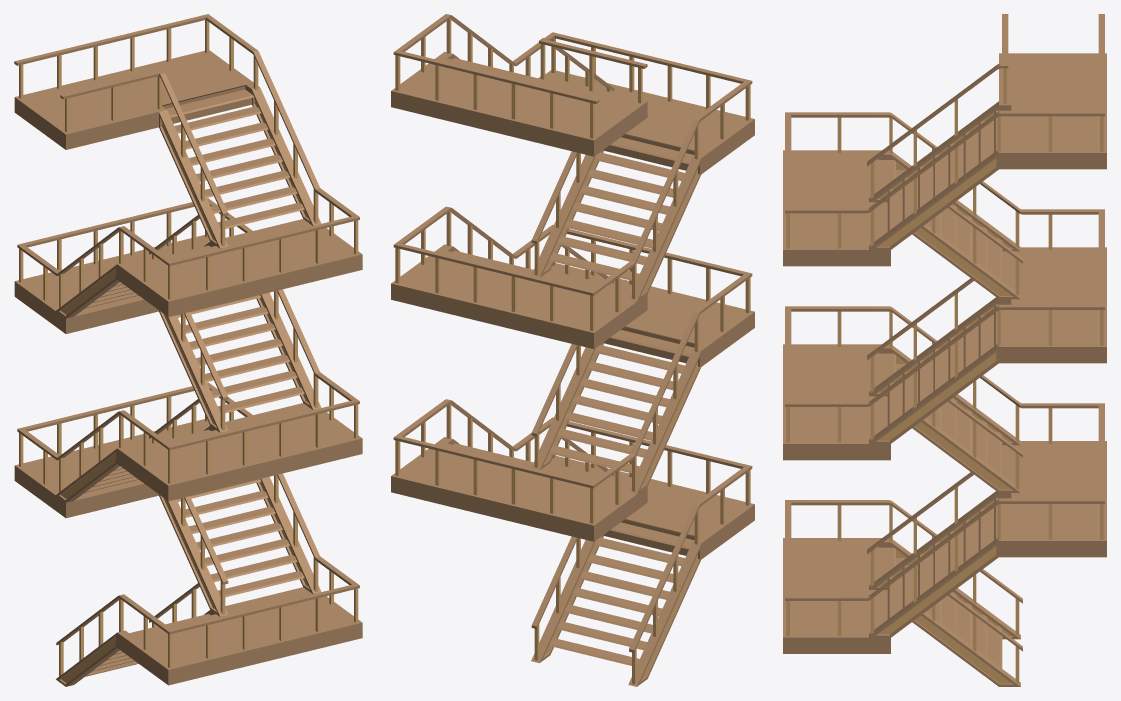
File: stairs.glb
3 renders of one model, left to right at view 1: azimuth 30°, elevation 25°; view 2: azimuth 150°, elevation 25°; view 3: azimuth 270°, elevation 25°, orthographic. The views are drawn at different scales.
Visible parts, largest first — view 1: Material2 (×2); view 2: Material2 (×2); view 3: Material2 (×2).
Boxes of the visible parts, x1=… form: Material2 (×2): x1=14, y1=14, x2=362, y2=686; Material2 (×2): x1=391, y1=14, x2=754, y2=686; Material2 (×2): x1=783, y1=14, x2=1106, y2=686.
Bounding box in the file's own units: 3.62 × 10.43 × 4.93.
